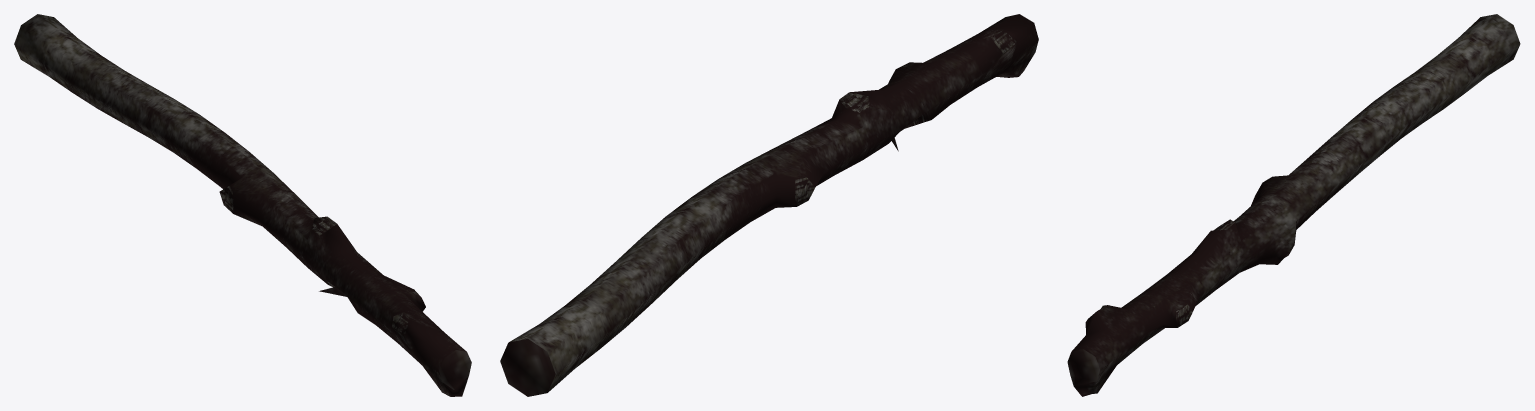
Rendered from falle_pine1.fbx.
3 renders of one model, left to right at view 1: azimuth 30°, elevation 25°; view 2: azimuth 150°, elevation 25°; view 3: azimuth 330°, elevation 25°, orthographic. The views are drawn at different scales.
Visible parts, largest first — view 1: Normal_Pine.004; view 2: Normal_Pine.004; view 3: Normal_Pine.004.
Boxes of the visible parts, <box> form: Normal_Pine.004: <box>14,14,471,396</box>; Normal_Pine.004: <box>500,14,1038,396</box>; Normal_Pine.004: <box>1067,14,1520,396</box>.
Bounding box in the file's own units: 111 × 134 × 1271.
